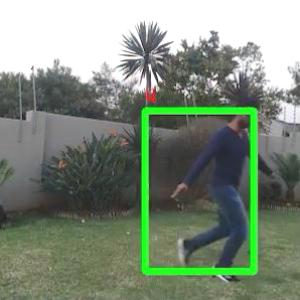land: (170, 98, 283, 283)
